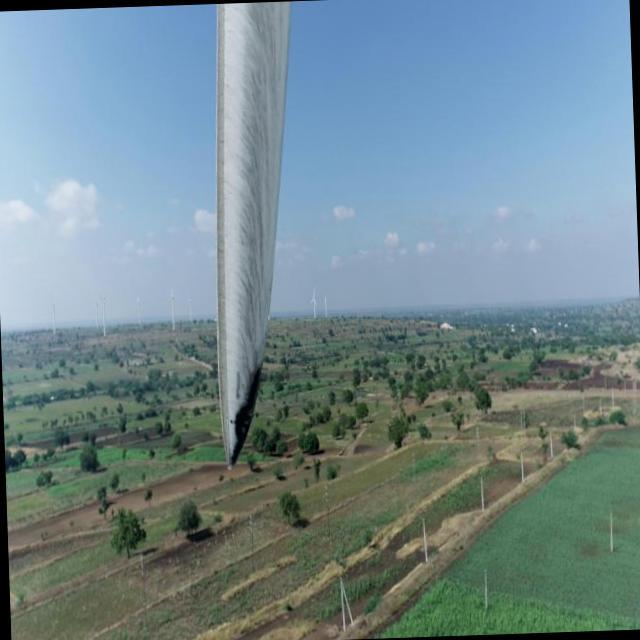Dirt: (214, 0, 290, 470)
Oil LEAKAGE: (235, 366, 263, 468)
Pin Hole: (227, 413, 237, 429)
